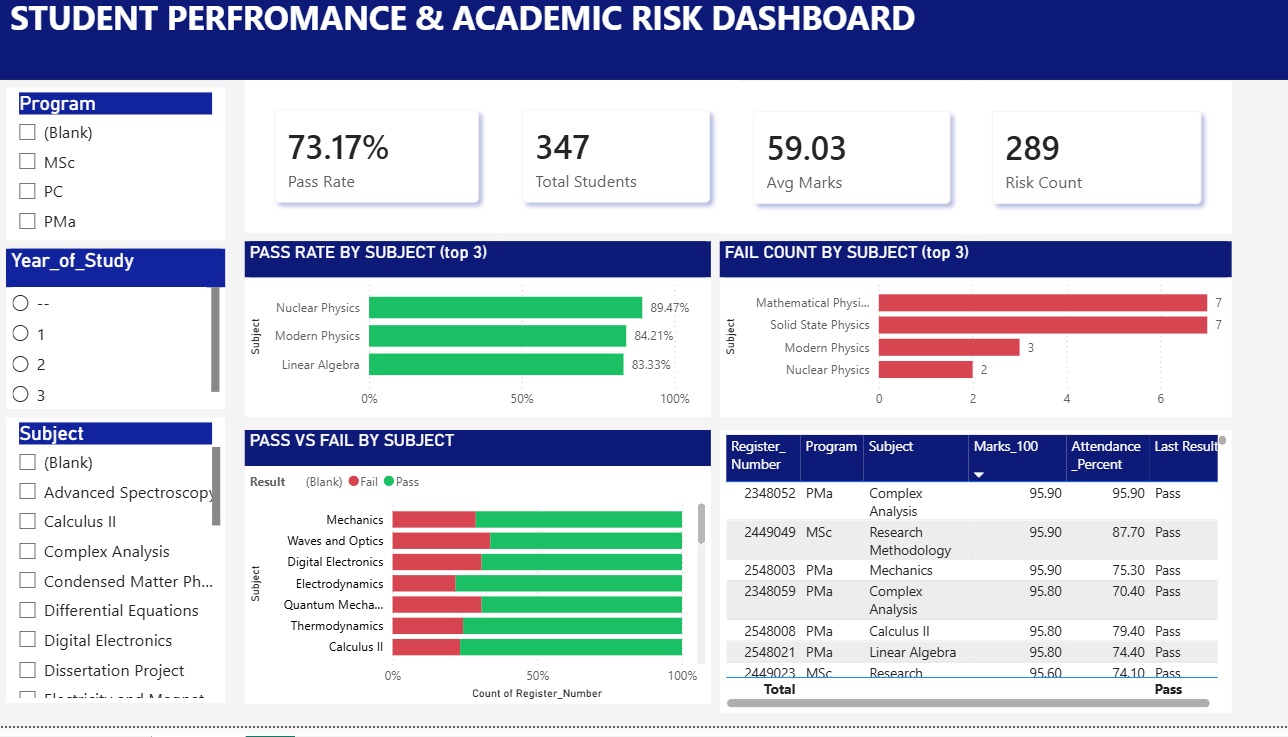

This screenshot's page, from the dashboard's own definition file:
{"tool":"powerbi","page":{"name":"Page 1","canvas":[1280,720],"ordinal":0},"visuals":[{"type":"cardVisual","fields":{"Data":["physics_even_semester_performance.Pass Rate"]},"box":[242.8,87.5,258.3,149.6],"z":0},{"type":"cardVisual","fields":{"Data":["physics_even_semester_performance.Risk Count"]},"box":[945.7,88.9,264,149.6],"z":1000},{"type":"cardVisual","fields":{"Data":["physics_even_semester_performance.Total Students"]},"box":[485.6,87.5,242.8,149.6],"z":2000},{"type":"cardVisual","fields":{"Data":["physics_even_semester_performance.Avg Marks"]},"box":[711.4,88.9,251.3,149.6],"z":3000},{"type":"textbox","box":[0,0,1280.3,88.2],"z":4000},{"type":"slicer","fields":{"Values":["physics_even_semester_performance.Program"]},"box":[9.9,96,214.6,149.6],"z":5000},{"type":"slicer","fields":{"Values":["physics_even_semester_performance.Subject"]},"box":[9.9,417.8,214.6,279.5],"z":6000},{"type":"listSlicer","fields":{"Values":["physics_even_semester_performance.Year_of_Study Hierarchy.Year_of_Study"]},"box":[9.9,252.7,214.6,156.7],"z":7000},{"type":"tableEx","fields":{"Values":["physics_even_semester_performance.Register_Number","physics_even_semester_performance.Program","physics_even_semester_performance.Subject","physics_even_semester_performance.Marks_100","physics_even_semester_performance.Attendance_Percent","physics_even_semester_performance.Result"]},"box":[708.6,430.5,501.1,276.7],"z":8000},{"type":"hundredPercentStackedBarChart","title":"PASS VS FAIL BY SUBJECT","fields":{"Category":["physics_even_semester_performance.Subject"],"Series":["physics_even_semester_performance.Result"],"Y":["Count(physics_even_semester_performance.Register_Number)"]},"box":[242.8,430.5,455.9,268.2],"z":9000},{"type":"clusteredBarChart","title":"PASS RATE BY SUBJECT (top 3)","fields":{"Category":["physics_even_semester_performance.Subject"],"Y":["physics_even_semester_performance.Pass Rate"]},"box":[242.8,245.6,455.9,172.2],"z":11000},{"type":"clusteredBarChart","title":"FAIL COUNT BY SUBJECT (top 3)","fields":{"Category":["physics_even_semester_performance.Subject"],"Y":["physics_even_semester_performance.Fail Count"]},"box":[708.6,245.6,501.1,172.2],"z":11001}]}

Visuals, with their boxes in screenshot pixels (x1, y1, x2, y2), scaled from the page's 1280x720 canvas onto the 1288x737 screenshot:
cardVisual - physics_even_semester_performance.Pass Rate: [244, 90, 504, 243]
cardVisual - physics_even_semester_performance.Risk Count: [952, 91, 1217, 244]
cardVisual - physics_even_semester_performance.Total Students: [489, 90, 733, 243]
cardVisual - physics_even_semester_performance.Avg Marks: [716, 91, 969, 244]
textbox: [0, 0, 1287, 90]
slicer - physics_even_semester_performance.Program: [10, 98, 226, 251]
slicer - physics_even_semester_performance.Subject: [10, 428, 226, 714]
listSlicer - physics_even_semester_performance.Year_of_Study Hierarchy.Year_of_Study: [10, 259, 226, 419]
tableEx - physics_even_semester_performance.Register_Number x physics_even_semester_performance.Program: [713, 441, 1217, 724]
"PASS VS FAIL BY SUBJECT" hundredPercentStackedBarChart: [244, 441, 703, 715]
"PASS RATE BY SUBJECT (top 3)" clusteredBarChart: [244, 251, 703, 428]
"FAIL COUNT BY SUBJECT (top 3)" clusteredBarChart: [713, 251, 1217, 428]
